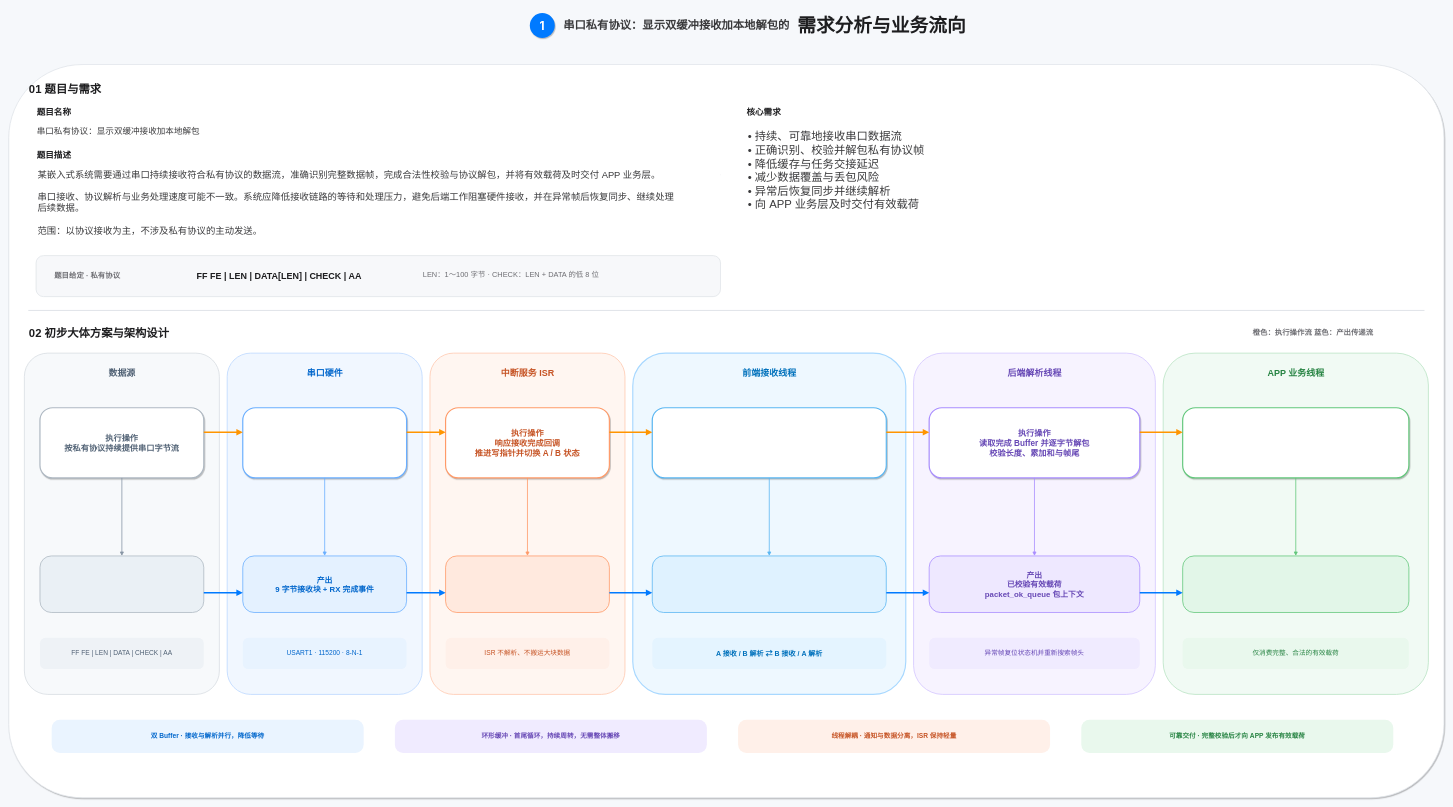
The diagram is 1453 pixels wide and 807 high, and some of its shapes have lost their labels. Here are the shapes that lost their labels. From the top down, the centre of each, then its label:
[324,443]: 执行操作 USART1 中断方式接收 每次 9 字节写入当前 Buffer
[769,443]: 执行操作 等待完成通知 · 确认完成 Buffer 通知后端 · 重新挂接下一次接收
[1296,443]: 执行操作 接收合法包上下文 读取并消费有效载荷
[121,584]: 产出 私有协议字节流
[527,584]: 产出 rx_ok_queue 接收完成通知
[769,584]: 产出 完成 Buffer 编号 + 可解析数据 双环形 Buffer A / B（108 B）
[1295,584]: 产出 业务处理结果
